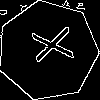X: (22, 25, 74, 66)
